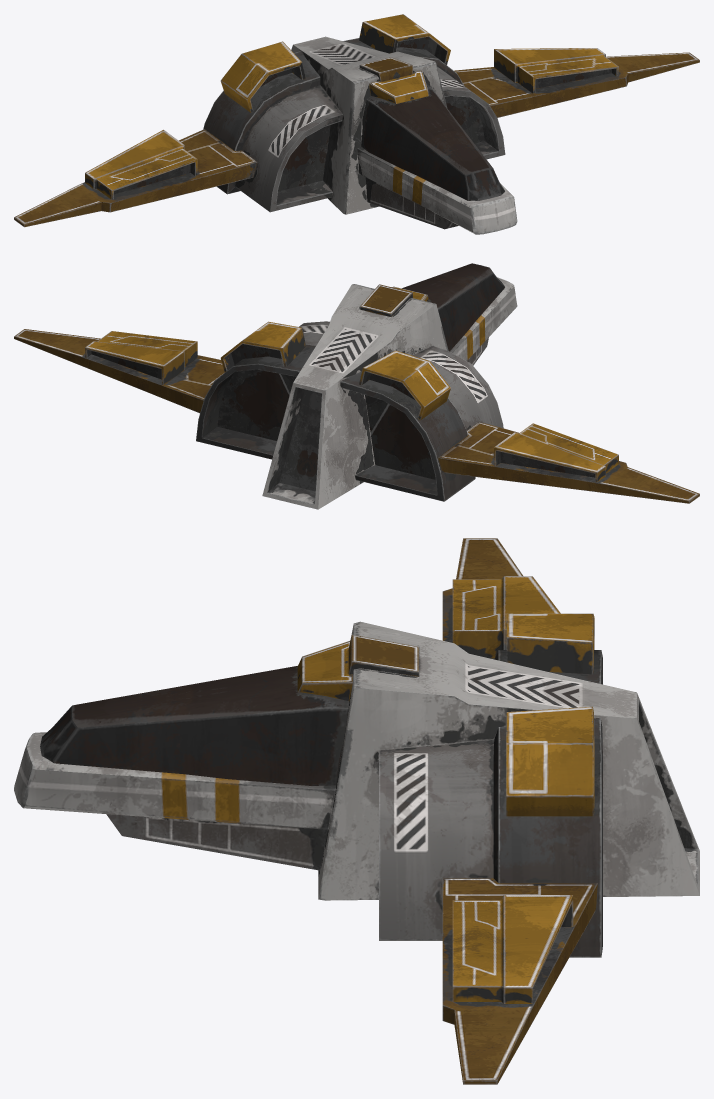
Rendered from fighter.glb.
The picture shows the model from 3 angles, top to bottom: view 1: azimuth 30°, elevation 25°; view 2: azimuth 150°, elevation 25°; view 3: azimuth 270°, elevation 25°; orthographic projection. The views are drawn at different scales.
Parts seen in each view (by area): view 1: Bob; view 2: Bob; view 3: Bob.
Boxes of the visible parts, bbox=[...] form: Bob: bbox=[14, 14, 699, 234]; Bob: bbox=[14, 263, 699, 509]; Bob: bbox=[14, 538, 699, 1084].
Size of the model in its own units: 10.5 by 2.04 by 5.61.
1 material, 1 textured.
